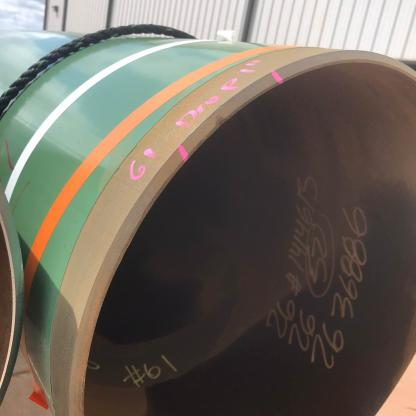Bevel: (208, 111, 231, 135)
